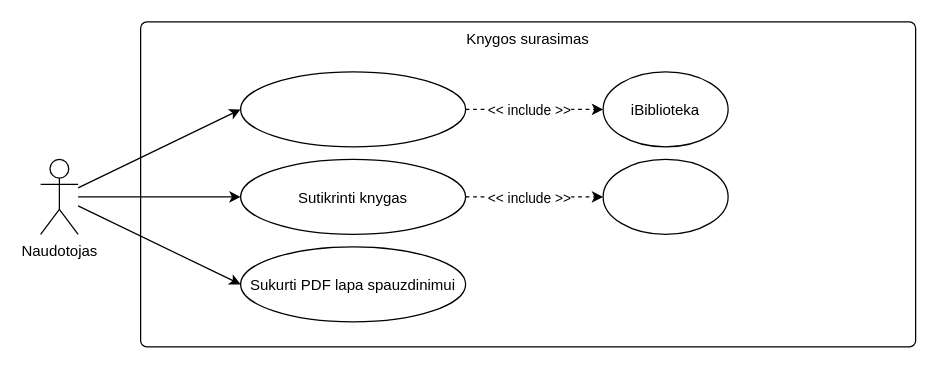
This 938x369 diagram has some shape labels left out. Each missing label, with the box of its shape:
Google Sheet: (602, 158, 728, 234)
Surasyti knygas: (239, 71, 466, 147)
